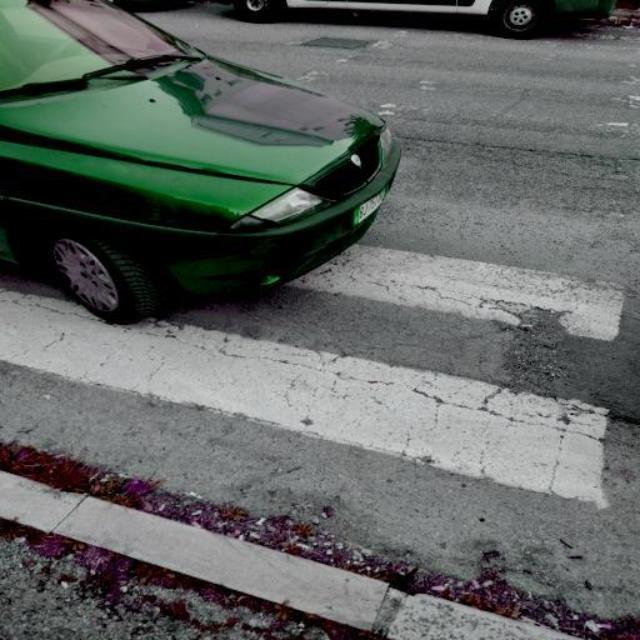sidewalk: (196, 247, 629, 516)
